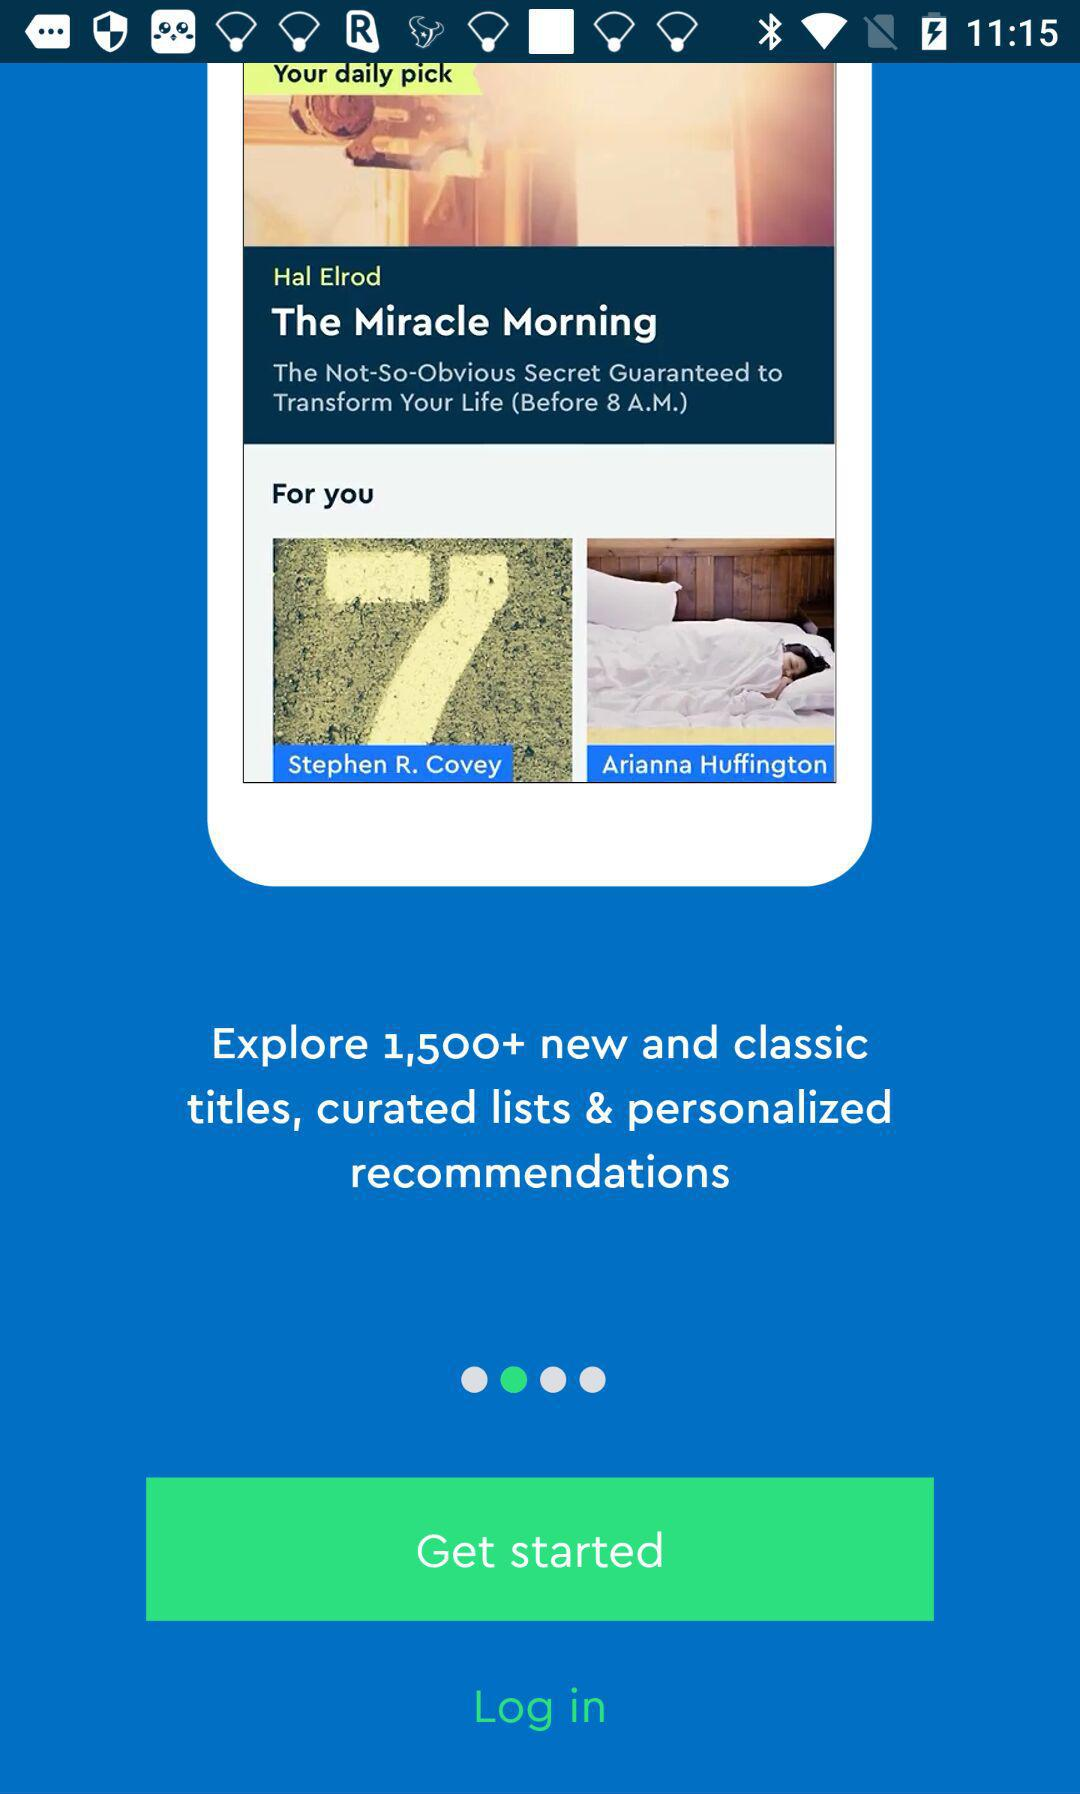Image: (208, 64, 872, 888)
PageIndicator: (459, 1363, 609, 1395)
Text: (187, 1023, 892, 1190), (475, 1685, 606, 1732)
TextButton: (146, 1476, 935, 1622)
UpperTaskBar: (1, 1, 1080, 64)
